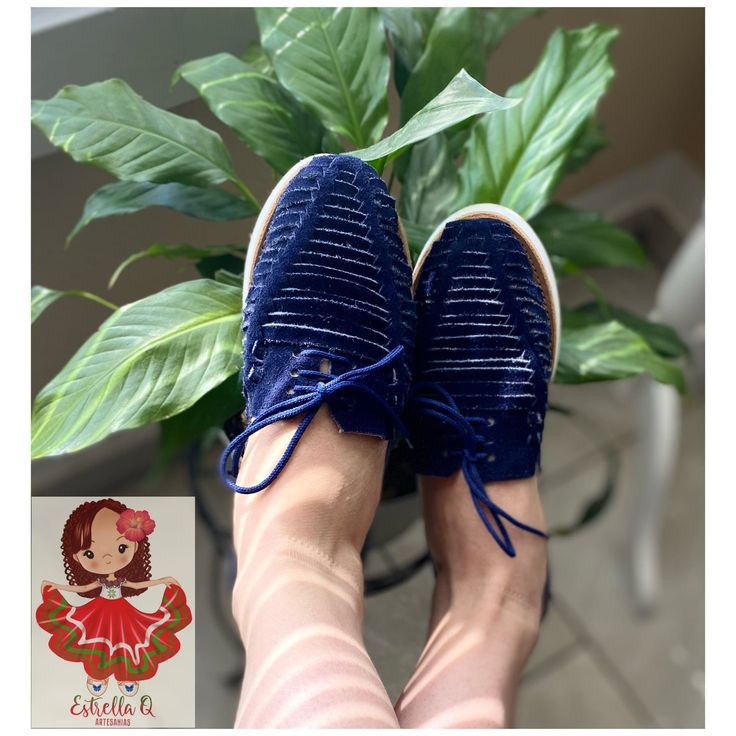gamuza: (241, 155, 551, 482)
